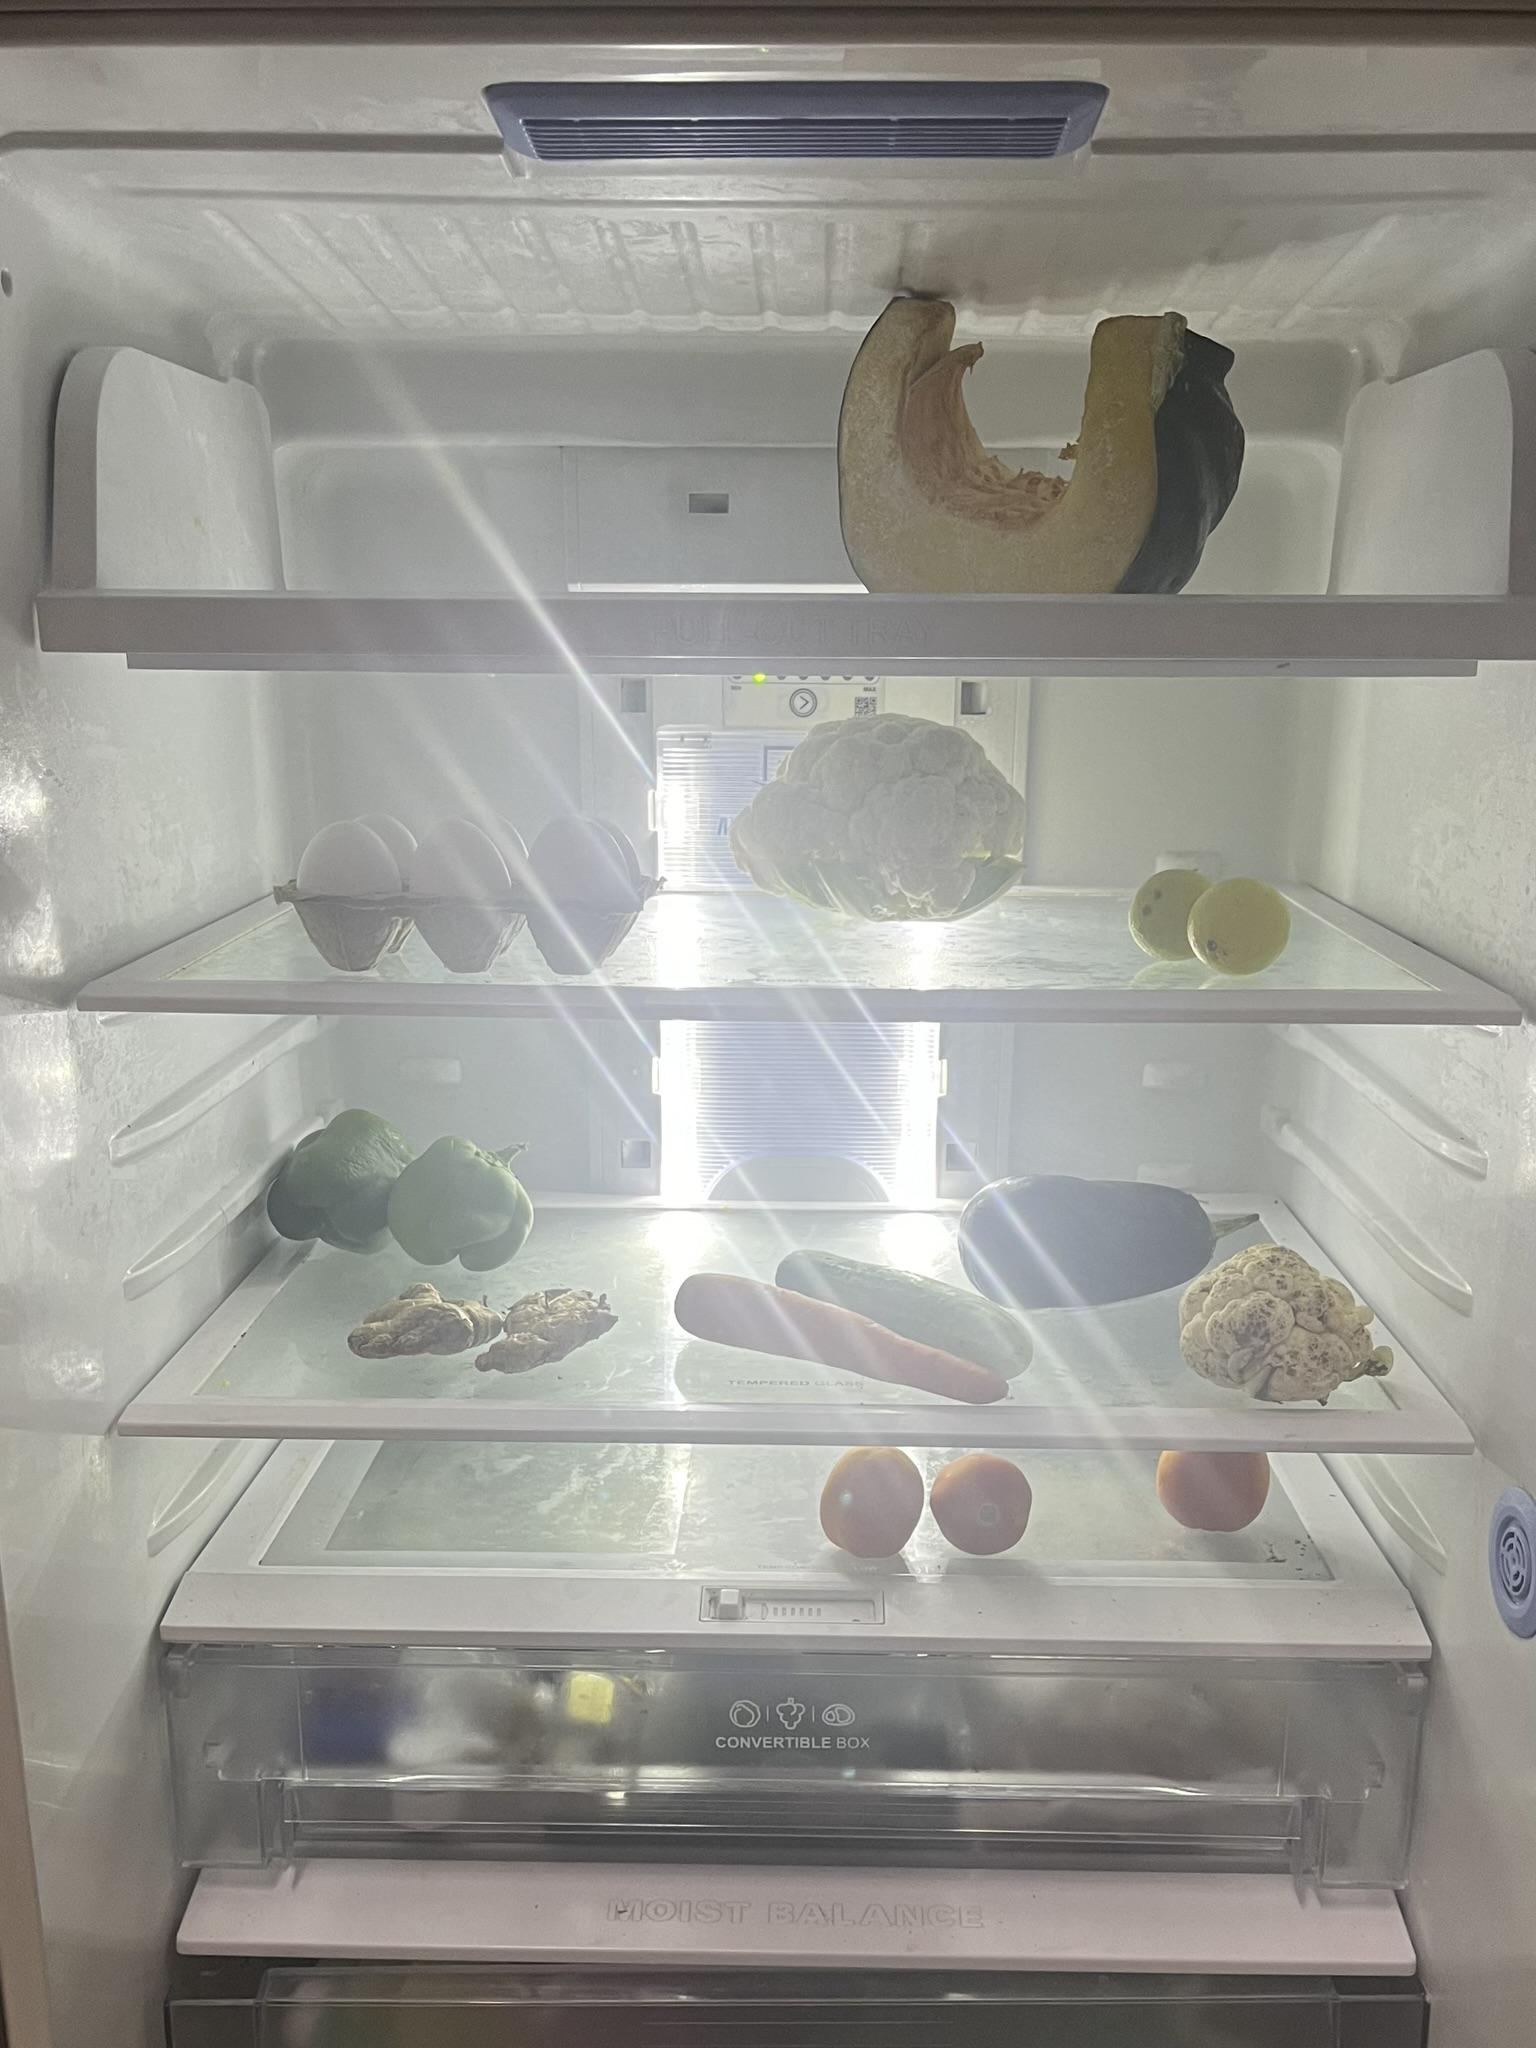bringal: (963, 1166, 1270, 1297)
capsicum: (266, 1109, 544, 1271)
carrots: (663, 1277, 1013, 1393)
cauliflower: (734, 710, 1016, 924), (1173, 1243, 1391, 1416)
cucumber: (787, 1240, 1050, 1374)
egg: (284, 816, 657, 977)
ginger: (340, 1284, 497, 1359), (481, 1287, 623, 1363)
lemon: (1126, 860, 1304, 971)
pumpkin: (826, 273, 1247, 600)
tomato: (807, 1443, 929, 1571), (933, 1453, 1037, 1567), (1150, 1447, 1283, 1534)
